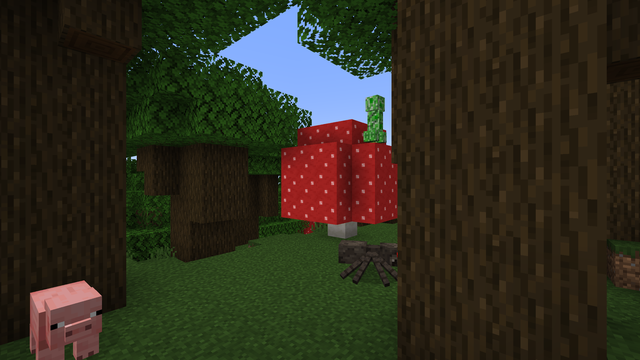araignees: (338, 233, 396, 287)
cochons: (18, 277, 108, 359)
creepers: (363, 91, 385, 143)
